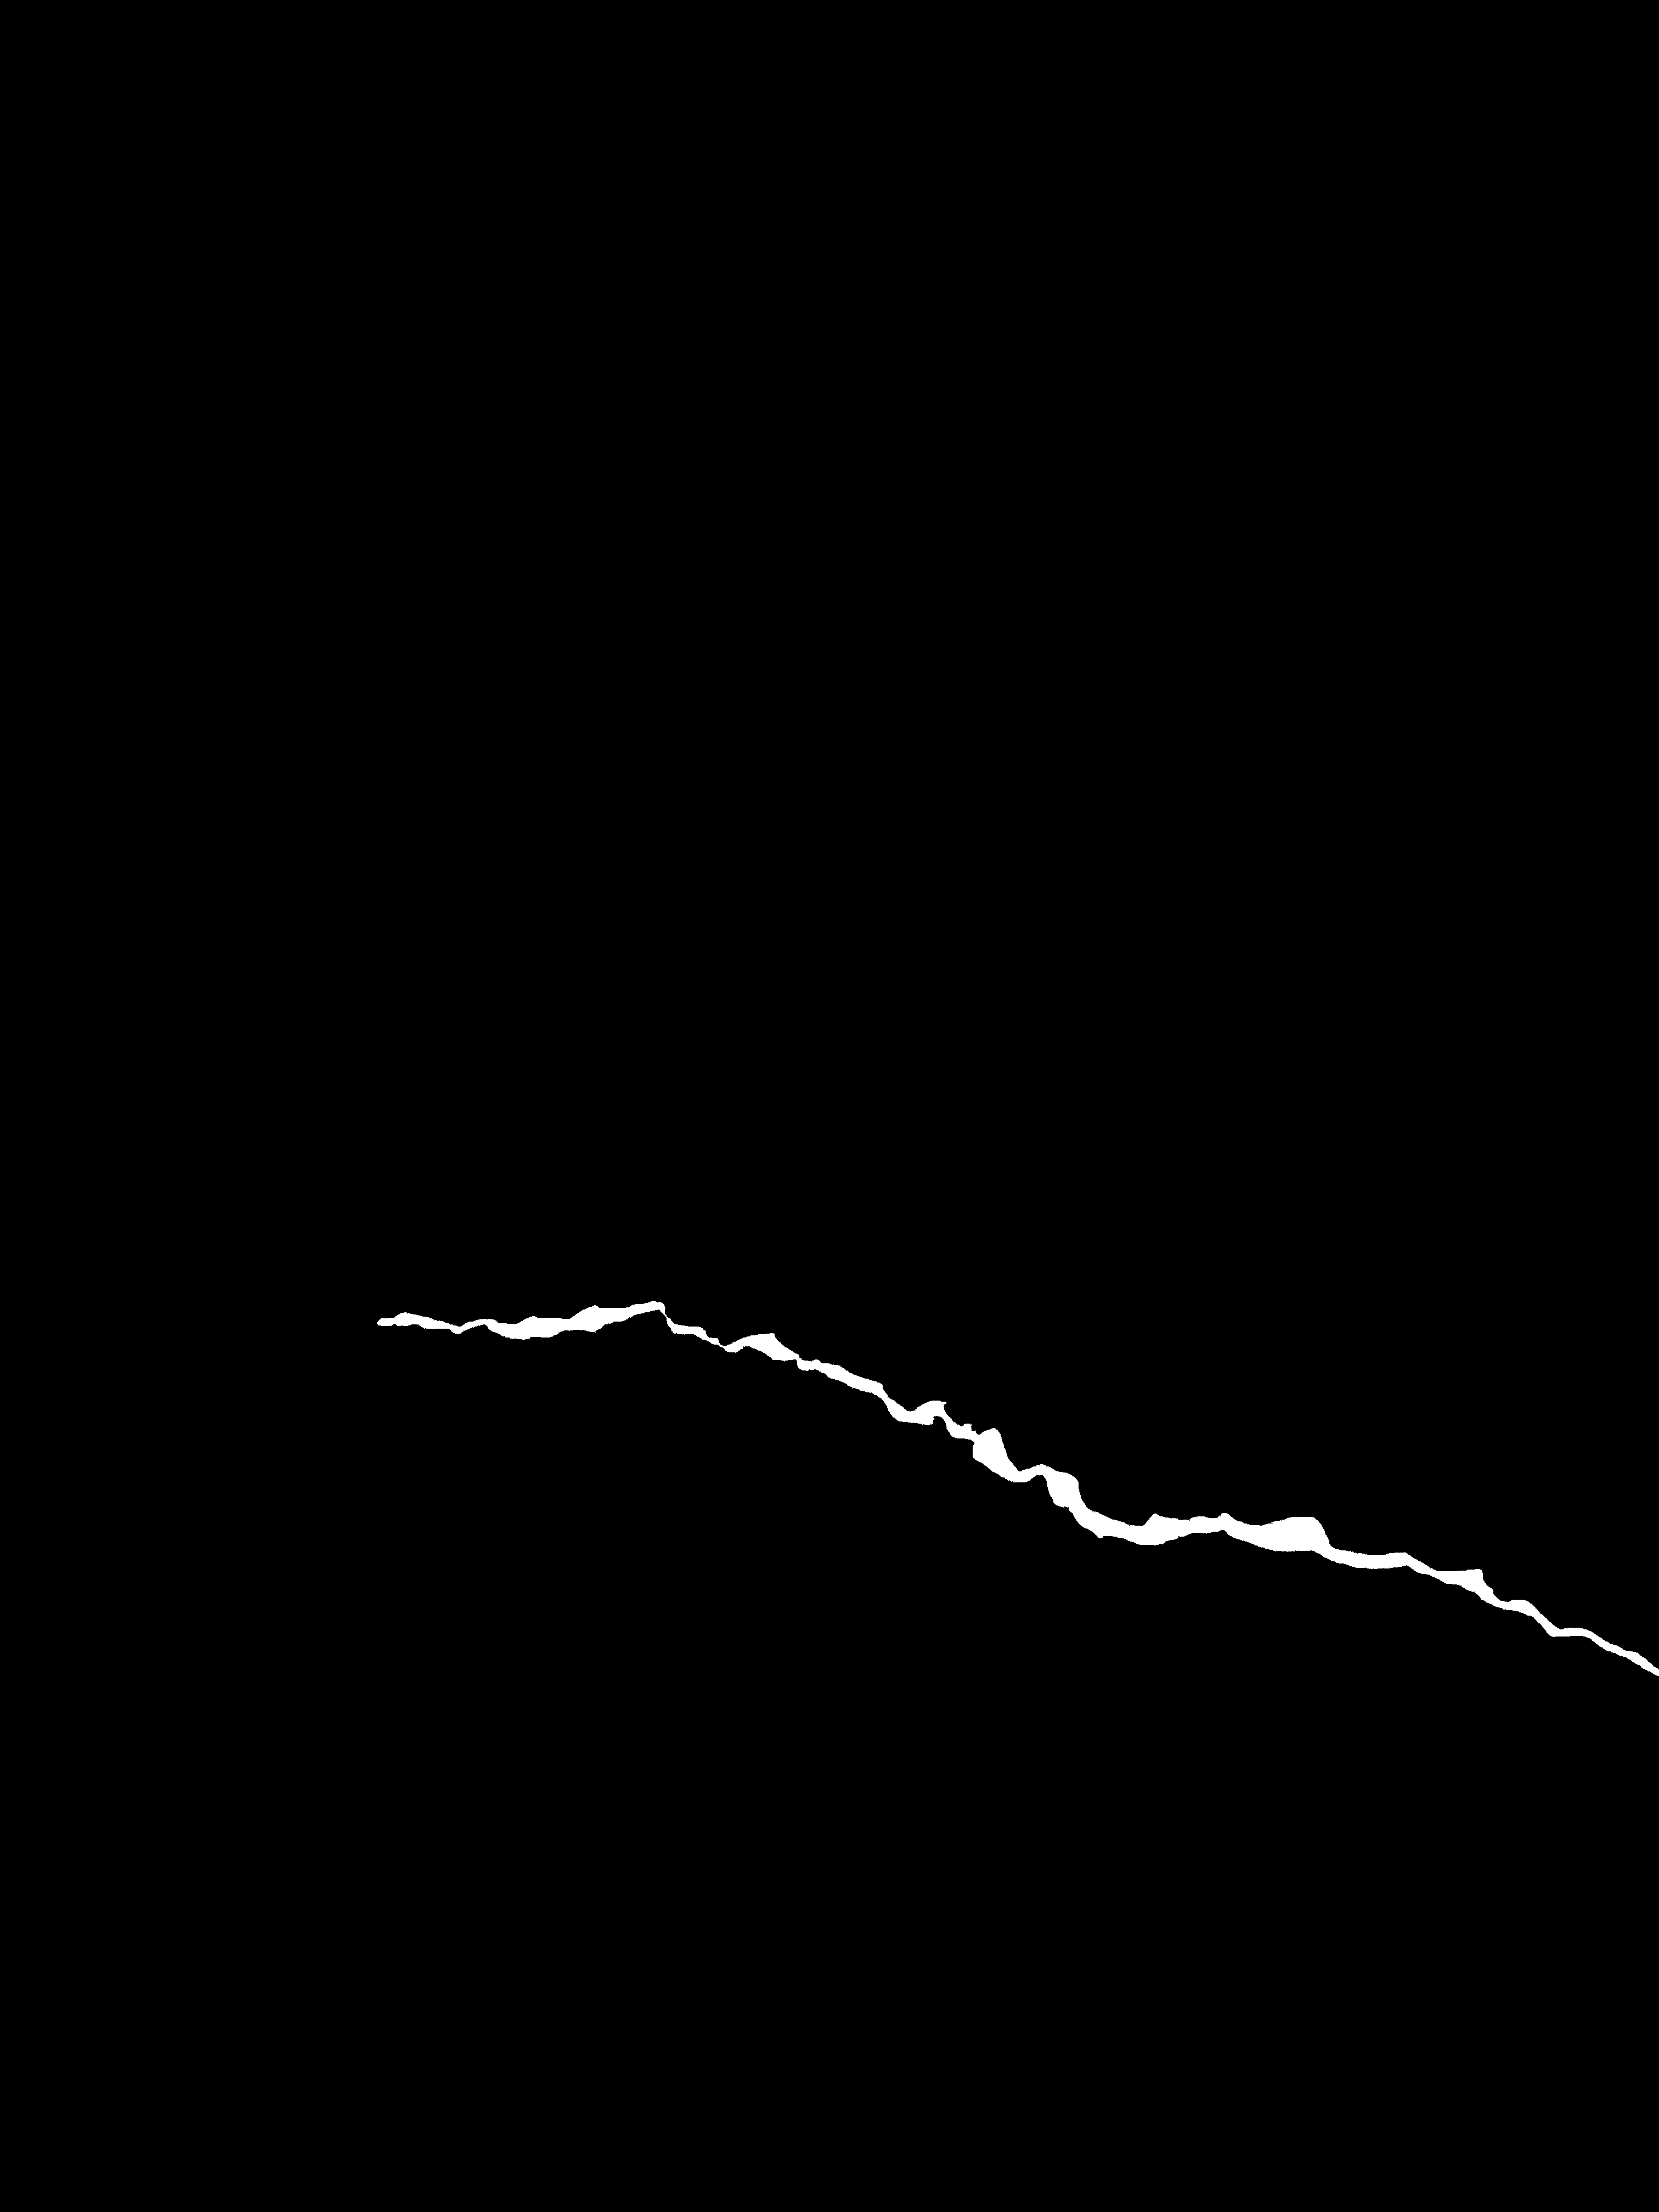Crack: (356, 1273, 1659, 1703)
